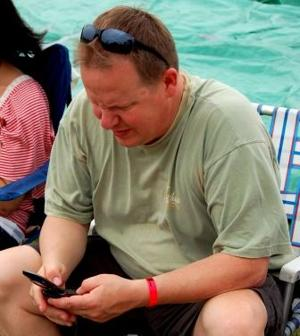person: (2, 4, 296, 336)
